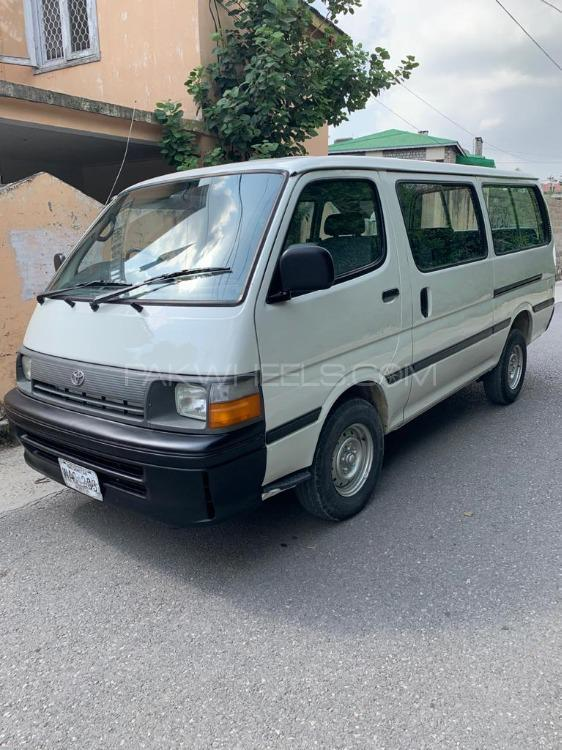van: (9, 154, 562, 550)
